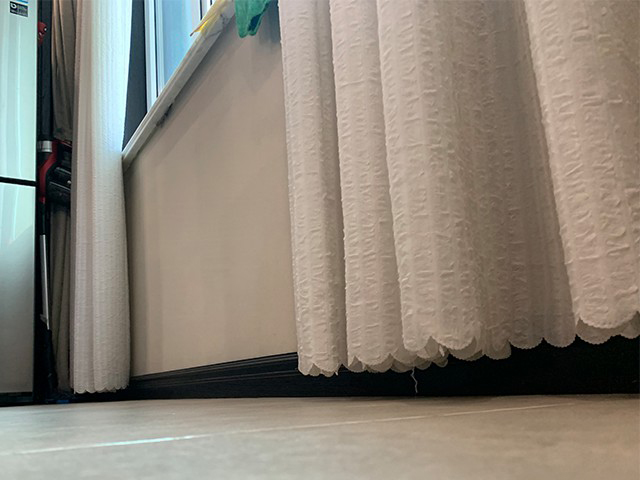curtain: (277, 1, 640, 376), (47, 1, 132, 393)
